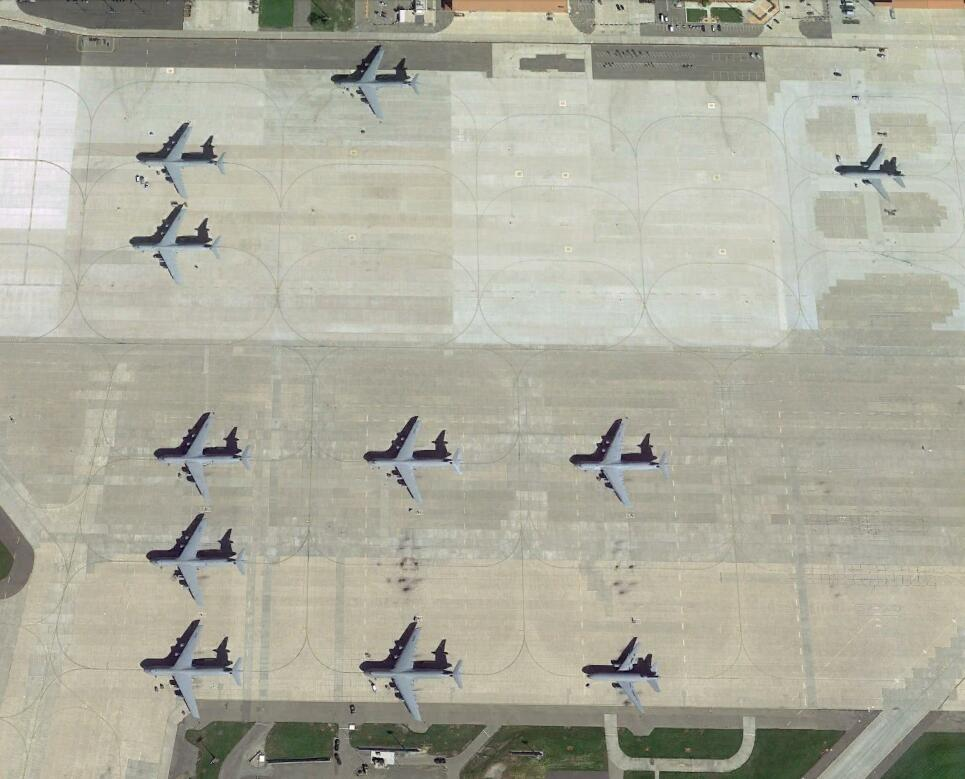A18: (583, 639, 663, 714), (832, 142, 906, 204)
A4: (358, 626, 465, 724), (140, 622, 245, 720), (146, 510, 248, 602), (154, 411, 251, 499), (572, 417, 669, 504), (366, 418, 462, 501), (330, 43, 423, 122), (129, 207, 222, 283), (136, 123, 227, 199)
